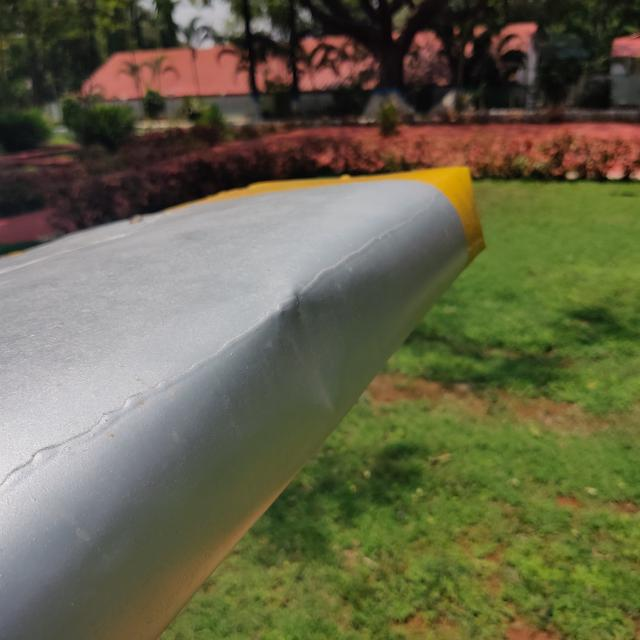dent: (250, 273, 364, 429)
